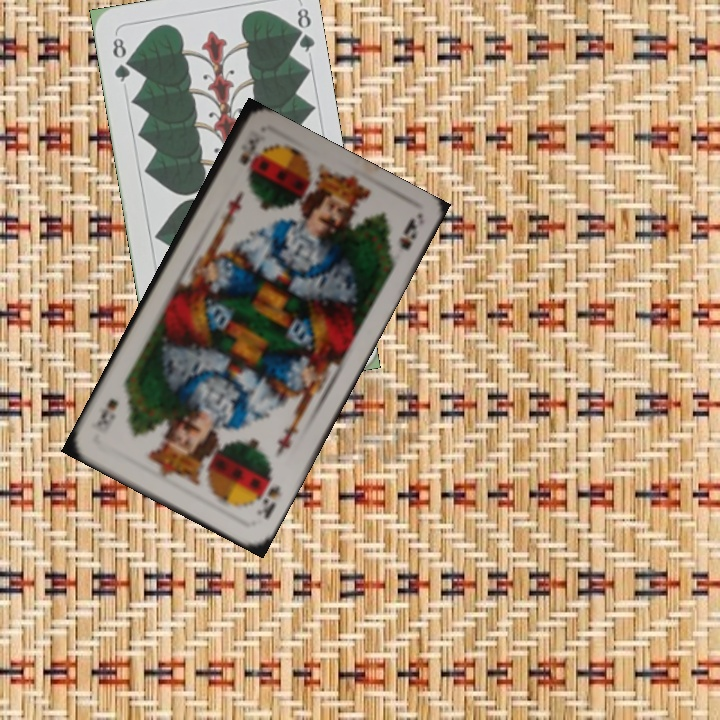G8: (108, 30, 134, 85)
SK: (254, 473, 284, 522), (235, 133, 261, 168)
